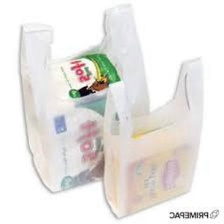plastic_bag: (17, 2, 151, 196), (87, 52, 215, 218)
